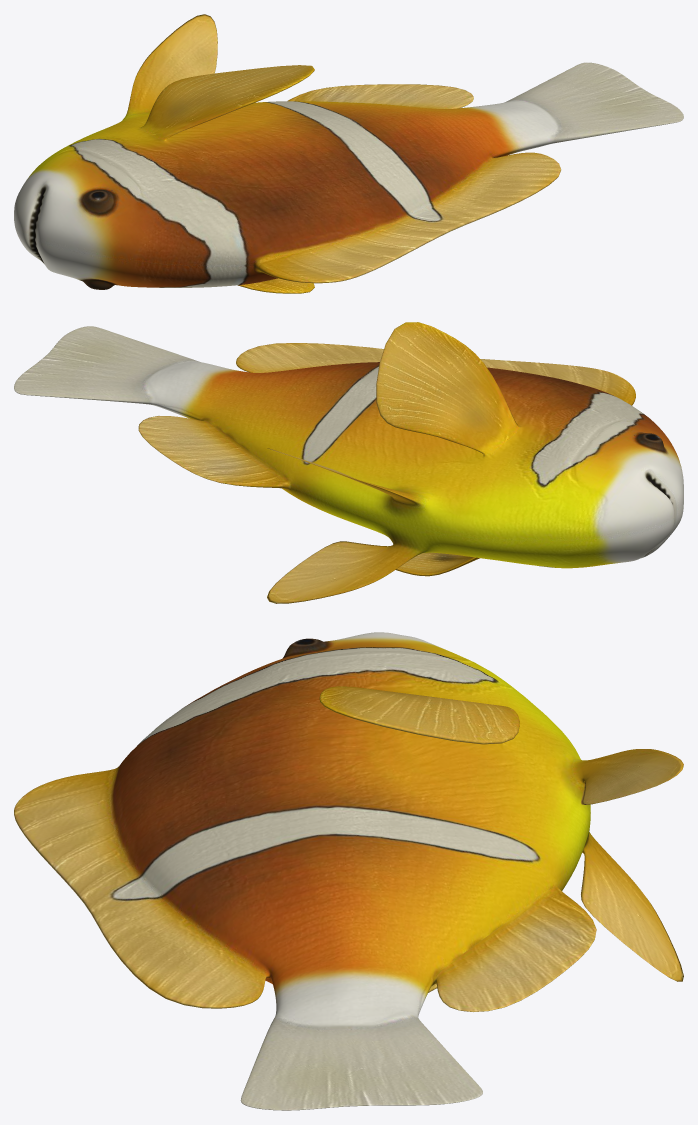
File: 12265_Fish_v1_L2.obj
The picture shows the model from 3 angles, top to bottom: view 1: azimuth 30°, elevation 25°; view 2: azimuth 150°, elevation 25°; view 3: azimuth 270°, elevation 25°; orthographic projection. The views are drawn at different scales.
Parts seen in each view (by area): view 1: 12265_Fish; view 2: 12265_Fish; view 3: 12265_Fish.
Boxes of the visible parts, x1,y1,x2,y2 form: 12265_Fish: [14, 14, 683, 293]; 12265_Fish: [14, 322, 683, 603]; 12265_Fish: [14, 632, 683, 1110].
Bounding box in the file's own units: 28.7 × 9.69 × 18.67.
